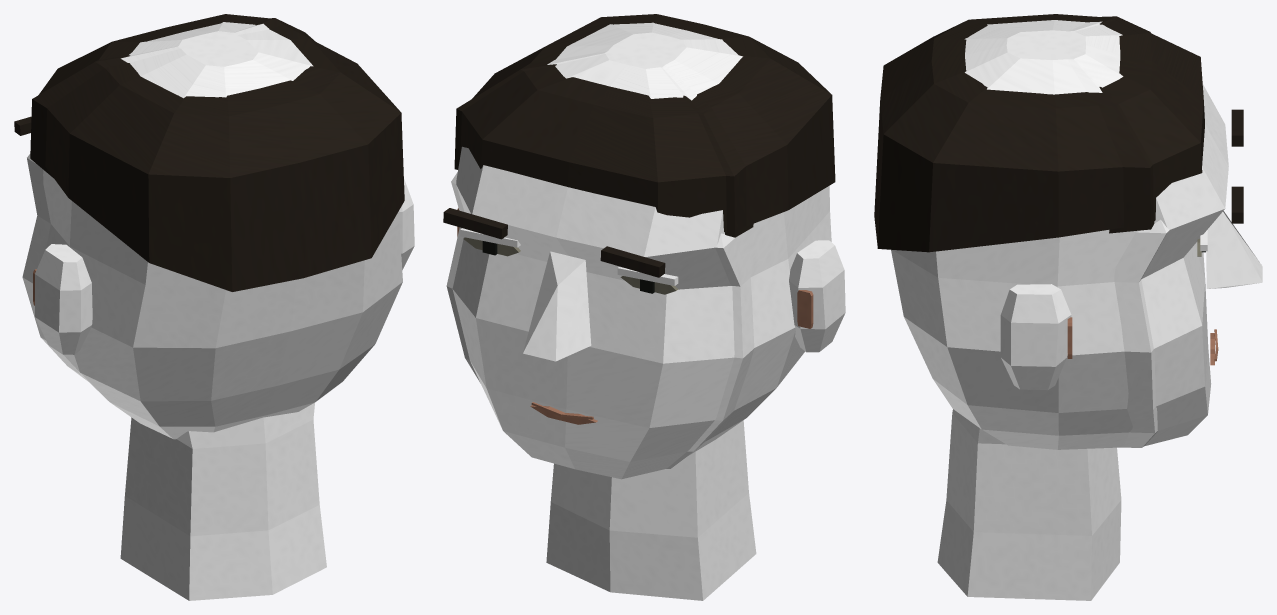
The picture shows the model from 3 angles, left to right: view 1: azimuth 30°, elevation 25°; view 2: azimuth 150°, elevation 25°; view 3: azimuth 270°, elevation 25°; orthographic projection. The views are drawn at different scales.
Parts seen in each view (by area): view 1: face_07_head_LOD0_RAID_skin.001, face_07_head_LOD0_RAID_hair3.001, face_07_head_LOD1_RAID_skin.001, face_07_head_LOD1_RAID_hair3.001; view 2: face_07_head_LOD0_RAID_skin.001, face_07_head_LOD0_RAID_hair3.001, face_07_head_LOD1_RAID_skin.001, face_07_head_LOD1_RAID_hair3.001, face_07_head_LOD0_RAID_lip.001, face_07_head_LOD0_RAID_eye.001; view 3: face_07_head_LOD0_RAID_skin.001, face_07_head_LOD0_RAID_hair3.001, face_07_head_LOD1_RAID_skin.001, face_07_head_LOD1_RAID_hair3.001.
Part boxes in pixels (box(x1,y1,x2,y2)): face_07_head_LOD0_RAID_skin.001: box(35, 22, 414, 600); face_07_head_LOD0_RAID_hair3.001: box(14, 14, 404, 291); face_07_head_LOD1_RAID_skin.001: box(22, 23, 268, 381); face_07_head_LOD1_RAID_hair3.001: box(30, 18, 314, 177); face_07_head_LOD0_RAID_skin.001: box(452, 22, 845, 600); face_07_head_LOD0_RAID_hair3.001: box(443, 14, 835, 277); face_07_head_LOD1_RAID_skin.001: box(446, 35, 754, 468); face_07_head_LOD1_RAID_hair3.001: box(454, 60, 753, 237); face_07_head_LOD0_RAID_lip.001: box(457, 208, 813, 424); face_07_head_LOD0_RAID_eye.001: box(463, 237, 678, 294); face_07_head_LOD0_RAID_skin.001: box(891, 20, 1262, 600); face_07_head_LOD0_RAID_hair3.001: box(874, 14, 1243, 252); face_07_head_LOD1_RAID_skin.001: box(1007, 21, 1169, 447); face_07_head_LOD1_RAID_hair3.001: box(1088, 16, 1154, 233).
Size of the model in its own units: 0.2884 by 0.388 by 0.264.
5 materials, 5 textured.
